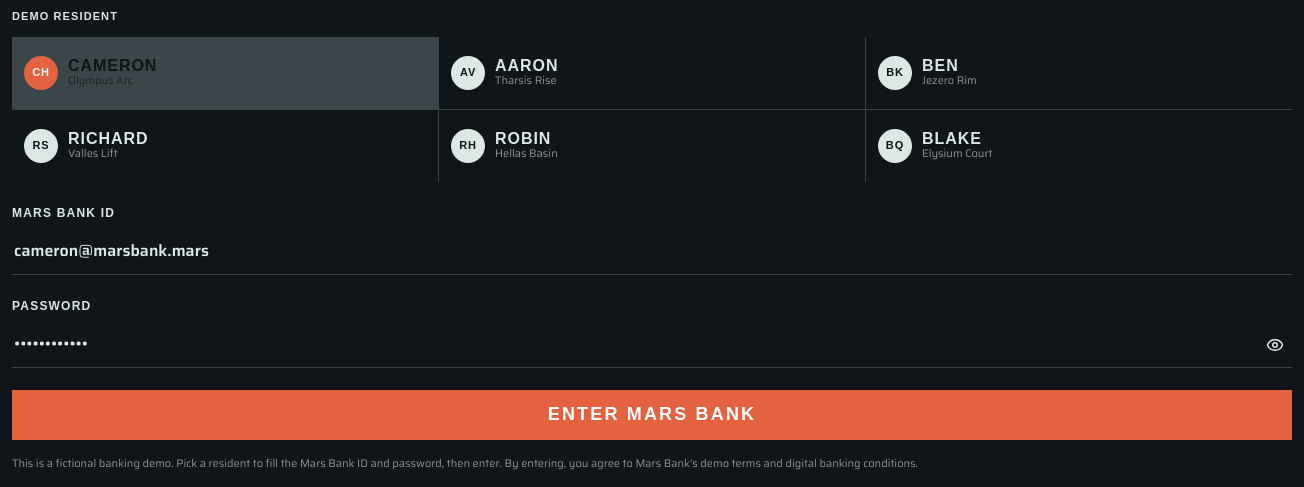
Test: LoginForm › fills Aaron's demo ID and password from the roster
Click the radio button labelled "AV Aaron Tharsis Rise" at (468, 72), box [439, 36, 865, 108]
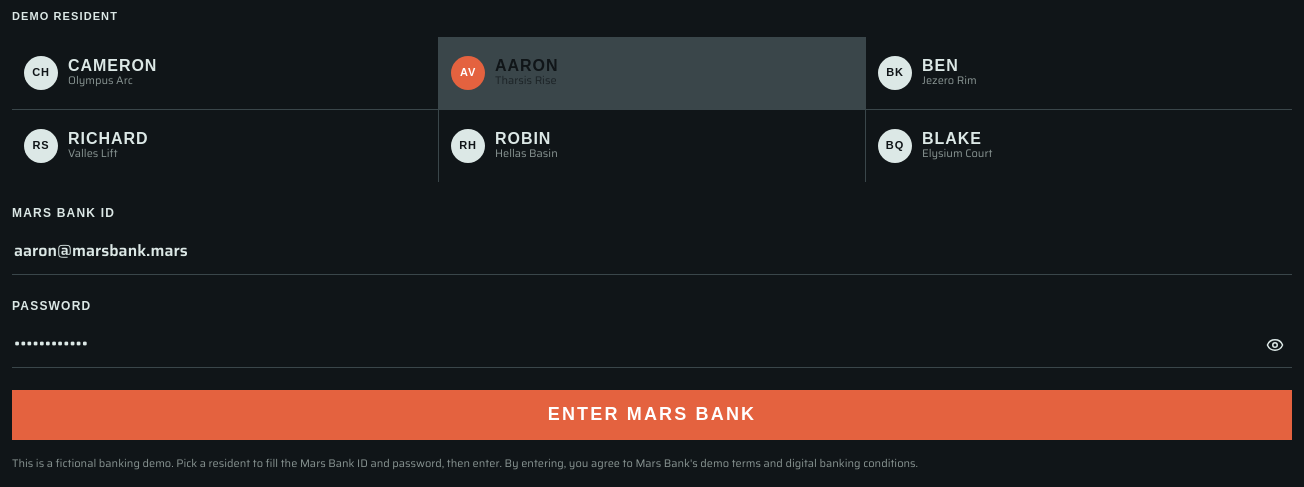
expect the password field showing "Tharsis!2026" is shown: met, box [12, 322, 1292, 368]
expect the radio button labelled "AV Aaron Tharsis Rise" is checked: met, box [451, 56, 558, 90]
expect the field showing "aaron@marsbank.mars" is shown: met, box [12, 228, 1292, 274]
